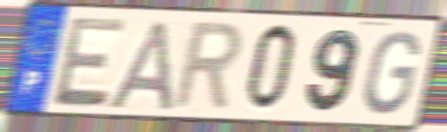0: (242, 20, 300, 118)
9: (302, 25, 362, 117)
A: (102, 17, 176, 113)
E: (50, 14, 129, 110)
G: (360, 29, 423, 117)
R: (168, 19, 246, 115)
